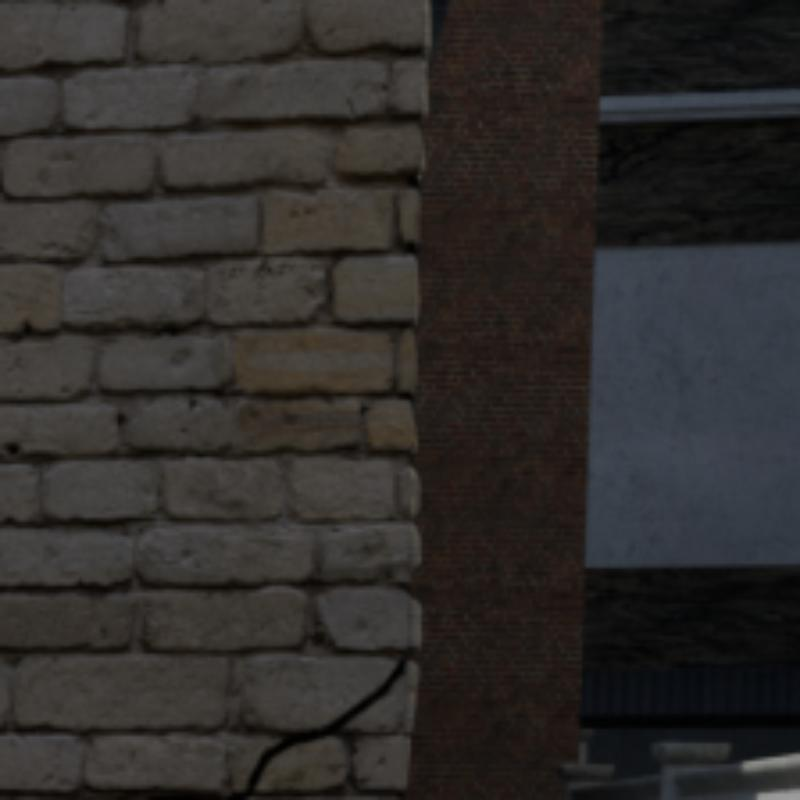pothole: (150, 654, 407, 797)
